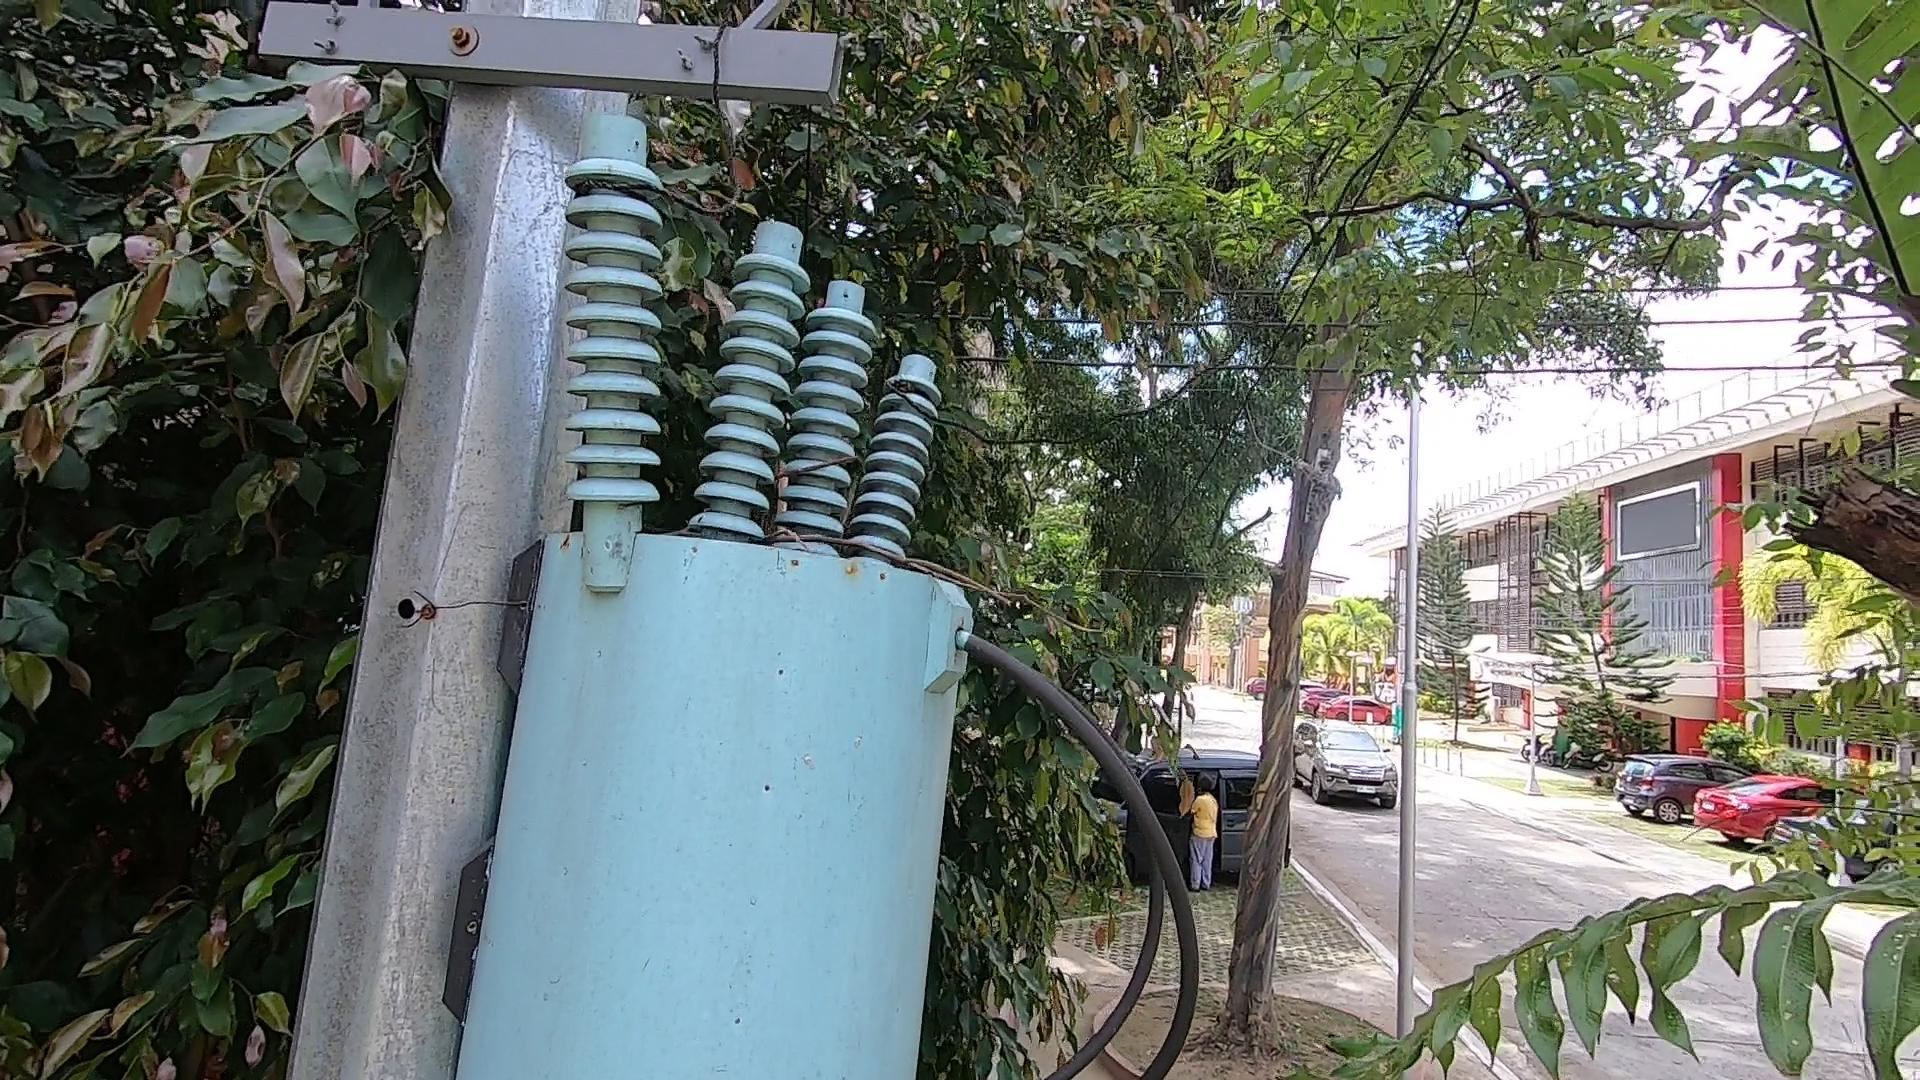tree branch: (735, 502, 1104, 653)
